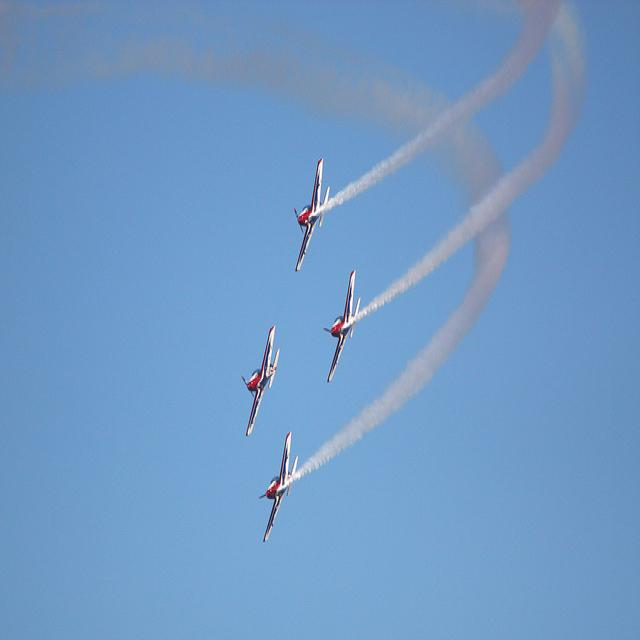airplane: (240, 322, 282, 438), (292, 154, 332, 274), (258, 430, 300, 543), (322, 269, 362, 385)
